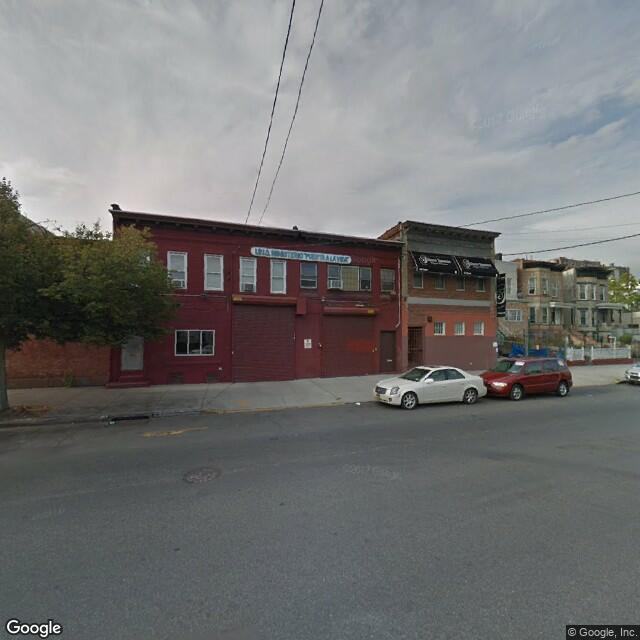litter: (97, 420, 146, 430), (349, 399, 390, 409)
